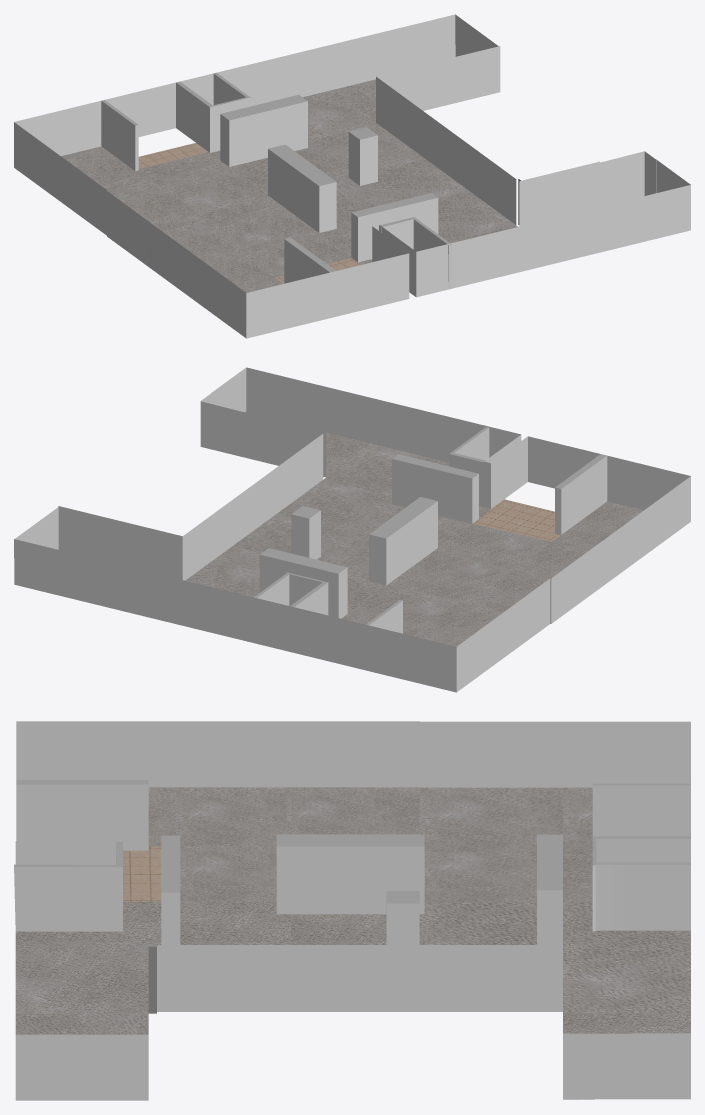
Rendered from 2floor.fbx.
3 views of the same model, one above another, from view 1: azimuth 30°, elevation 25°; view 2: azimuth 150°, elevation 25°; view 3: azimuth 270°, elevation 25° (orthographic). The views are drawn at different scales.
Parts seen in each view (by area): view 1: pCube1; view 2: pCube1; view 3: pCube1.
Boxes of the visible parts, x1,y1,x2,y2 form: pCube1: [14, 14, 690, 338]; pCube1: [14, 367, 690, 692]; pCube1: [14, 721, 690, 1100].
Size of the model in its own units: 0.4986 by 0.0602 by 0.455.
2 materials, 1 textured.
